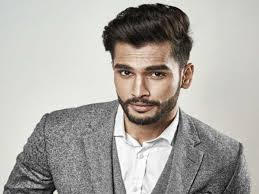Indian_Male: (109, 46, 181, 126)
